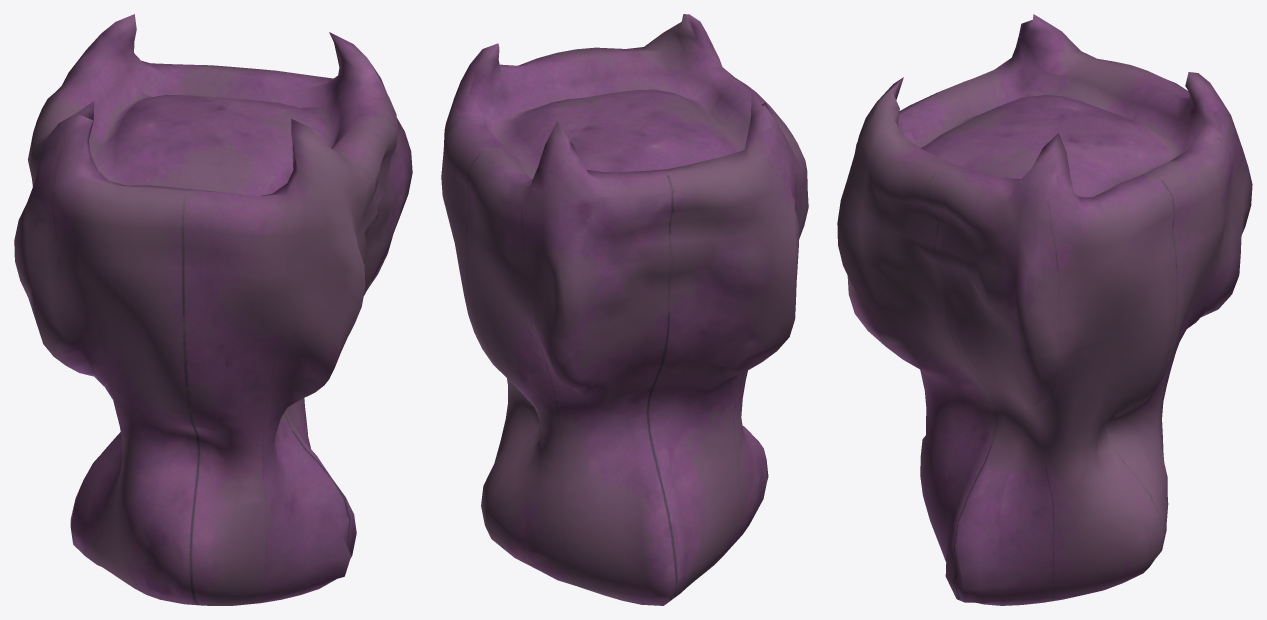
File: low poly segunda parte definitivo3.fbx
3 renders of one model, left to right at view 1: azimuth 30°, elevation 25°; view 2: azimuth 150°, elevation 25°; view 3: azimuth 270°, elevation 25°, orthographic. The views are drawn at different scales.
Parts seen in each view (by area): view 1: ROCA 2; view 2: ROCA 2; view 3: ROCA 2.
Boxes of the visible parts, x1,y1,x2,y2 form: ROCA 2: [14, 14, 412, 605]; ROCA 2: [441, 14, 808, 605]; ROCA 2: [837, 14, 1252, 605].
Size of the model in its own units: 226 by 296 by 222.
